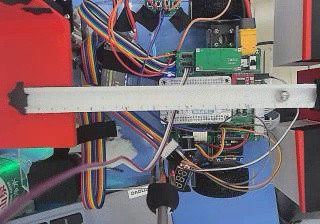ironball: (278, 90, 289, 101)
